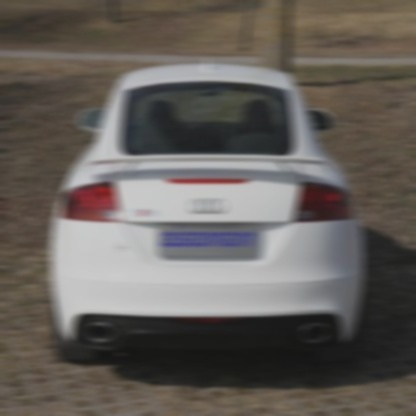Vehicle: (52, 58, 364, 367)
